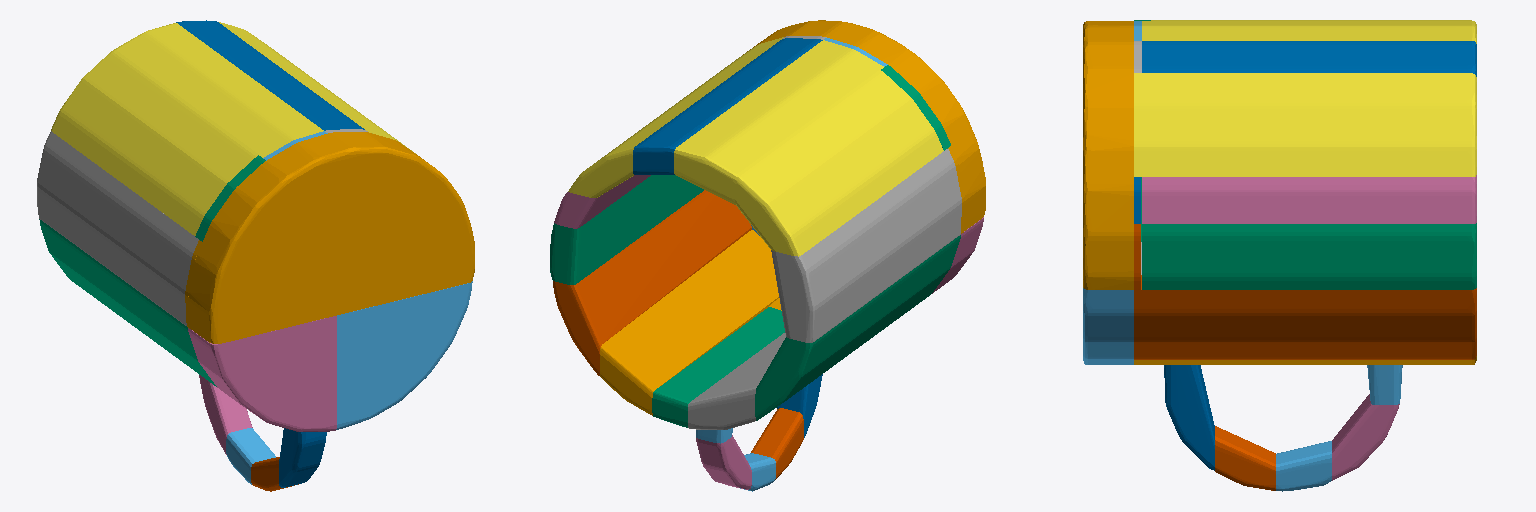
robot.urdf — root:
<robot name="root">
  <link name="link_convex_piece_018.obj">
    <inertial>
      <origin xyz="0 0 0" rpy="0 0 0"/>
    </inertial>
    <visual>
      <origin xyz="0 0 0" rpy="0 0 0"/>
      <geometry>
        <mesh filename="meshes/convex_piece_018.obj" scale="1.0 1.0 1.0"/>
      </geometry>
    </visual>
    <collision>
      <origin xyz="0 0 0" rpy="0 0 0"/>
      <geometry>
        <mesh filename="meshes/convex_piece_018.obj" scale="1.0 1.0 1.0"/>
      </geometry>
    </collision>
  </link>
  <link name="link_convex_piece_026.obj">
    <inertial>
      <origin xyz="0 0 0" rpy="0 0 0"/>
    </inertial>
    <visual>
      <origin xyz="0 0 0" rpy="0 0 0"/>
      <geometry>
        <mesh filename="meshes/convex_piece_026.obj" scale="1.0 1.0 1.0"/>
      </geometry>
    </visual>
    <collision>
      <origin xyz="0 0 0" rpy="0 0 0"/>
      <geometry>
        <mesh filename="meshes/convex_piece_026.obj" scale="1.0 1.0 1.0"/>
      </geometry>
    </collision>
  </link>
  <joint name="link_convex_piece_026.obj_joint" type="fixed">
    <origin xyz="0 0 0" rpy="0 0 0"/>
    <parent link="link_convex_piece_018.obj"/>
    <child link="link_convex_piece_026.obj"/>
  </joint>
  <link name="link_convex_piece_021.obj">
    <inertial>
      <origin xyz="0 0 0" rpy="0 0 0"/>
    </inertial>
    <visual>
      <origin xyz="0 0 0" rpy="0 0 0"/>
      <geometry>
        <mesh filename="meshes/convex_piece_021.obj" scale="1.0 1.0 1.0"/>
      </geometry>
    </visual>
    <collision>
      <origin xyz="0 0 0" rpy="0 0 0"/>
      <geometry>
        <mesh filename="meshes/convex_piece_021.obj" scale="1.0 1.0 1.0"/>
      </geometry>
    </collision>
  </link>
  <joint name="link_convex_piece_021.obj_joint" type="fixed">
    <origin xyz="0 0 0" rpy="0 0 0"/>
    <parent link="link_convex_piece_026.obj"/>
    <child link="link_convex_piece_021.obj"/>
  </joint>
  <link name="link_convex_piece_012.obj">
    <inertial>
      <origin xyz="0 0 0" rpy="0 0 0"/>
    </inertial>
    <visual>
      <origin xyz="0 0 0" rpy="0 0 0"/>
      <geometry>
        <mesh filename="meshes/convex_piece_012.obj" scale="1.0 1.0 1.0"/>
      </geometry>
    </visual>
    <collision>
      <origin xyz="0 0 0" rpy="0 0 0"/>
      <geometry>
        <mesh filename="meshes/convex_piece_012.obj" scale="1.0 1.0 1.0"/>
      </geometry>
    </collision>
  </link>
  <joint name="link_convex_piece_012.obj_joint" type="fixed">
    <origin xyz="0 0 0" rpy="0 0 0"/>
    <parent link="link_convex_piece_021.obj"/>
    <child link="link_convex_piece_012.obj"/>
  </joint>
  <link name="link_convex_piece_019.obj">
    <inertial>
      <origin xyz="0 0 0" rpy="0 0 0"/>
    </inertial>
    <visual>
      <origin xyz="0 0 0" rpy="0 0 0"/>
      <geometry>
        <mesh filename="meshes/convex_piece_019.obj" scale="1.0 1.0 1.0"/>
      </geometry>
    </visual>
    <collision>
      <origin xyz="0 0 0" rpy="0 0 0"/>
      <geometry>
        <mesh filename="meshes/convex_piece_019.obj" scale="1.0 1.0 1.0"/>
      </geometry>
    </collision>
  </link>
  <joint name="link_convex_piece_019.obj_joint" type="fixed">
    <origin xyz="0 0 0" rpy="0 0 0"/>
    <parent link="link_convex_piece_012.obj"/>
    <child link="link_convex_piece_019.obj"/>
  </joint>
  <link name="link_convex_piece_014.obj">
    <inertial>
      <origin xyz="0 0 0" rpy="0 0 0"/>
    </inertial>
    <visual>
      <origin xyz="0 0 0" rpy="0 0 0"/>
      <geometry>
        <mesh filename="meshes/convex_piece_014.obj" scale="1.0 1.0 1.0"/>
      </geometry>
    </visual>
    <collision>
      <origin xyz="0 0 0" rpy="0 0 0"/>
      <geometry>
        <mesh filename="meshes/convex_piece_014.obj" scale="1.0 1.0 1.0"/>
      </geometry>
    </collision>
  </link>
  <joint name="link_convex_piece_014.obj_joint" type="fixed">
    <origin xyz="0 0 0" rpy="0 0 0"/>
    <parent link="link_convex_piece_019.obj"/>
    <child link="link_convex_piece_014.obj"/>
  </joint>
  <link name="link_convex_piece_020.obj">
    <inertial>
      <origin xyz="0 0 0" rpy="0 0 0"/>
    </inertial>
    <visual>
      <origin xyz="0 0 0" rpy="0 0 0"/>
      <geometry>
        <mesh filename="meshes/convex_piece_020.obj" scale="1.0 1.0 1.0"/>
      </geometry>
    </visual>
    <collision>
      <origin xyz="0 0 0" rpy="0 0 0"/>
      <geometry>
        <mesh filename="meshes/convex_piece_020.obj" scale="1.0 1.0 1.0"/>
      </geometry>
    </collision>
  </link>
  <joint name="link_convex_piece_020.obj_joint" type="fixed">
    <origin xyz="0 0 0" rpy="0 0 0"/>
    <parent link="link_convex_piece_014.obj"/>
    <child link="link_convex_piece_020.obj"/>
  </joint>
  <link name="link_convex_piece_004.obj">
    <inertial>
      <origin xyz="0 0 0" rpy="0 0 0"/>
    </inertial>
    <visual>
      <origin xyz="0 0 0" rpy="0 0 0"/>
      <geometry>
        <mesh filename="meshes/convex_piece_004.obj" scale="1.0 1.0 1.0"/>
      </geometry>
    </visual>
    <collision>
      <origin xyz="0 0 0" rpy="0 0 0"/>
      <geometry>
        <mesh filename="meshes/convex_piece_004.obj" scale="1.0 1.0 1.0"/>
      </geometry>
    </collision>
  </link>
  <joint name="link_convex_piece_004.obj_joint" type="fixed">
    <origin xyz="0 0 0" rpy="0 0 0"/>
    <parent link="link_convex_piece_020.obj"/>
    <child link="link_convex_piece_004.obj"/>
  </joint>
  <link name="link_convex_piece_001.obj">
    <inertial>
      <origin xyz="0 0 0" rpy="0 0 0"/>
    </inertial>
    <visual>
      <origin xyz="0 0 0" rpy="0 0 0"/>
      <geometry>
        <mesh filename="meshes/convex_piece_001.obj" scale="1.0 1.0 1.0"/>
      </geometry>
    </visual>
    <collision>
      <origin xyz="0 0 0" rpy="0 0 0"/>
      <geometry>
        <mesh filename="meshes/convex_piece_001.obj" scale="1.0 1.0 1.0"/>
      </geometry>
    </collision>
  </link>
  <joint name="link_convex_piece_001.obj_joint" type="fixed">
    <origin xyz="0 0 0" rpy="0 0 0"/>
    <parent link="link_convex_piece_004.obj"/>
    <child link="link_convex_piece_001.obj"/>
  </joint>
  <link name="link_convex_piece_015.obj">
    <inertial>
      <origin xyz="0 0 0" rpy="0 0 0"/>
    </inertial>
    <visual>
      <origin xyz="0 0 0" rpy="0 0 0"/>
      <geometry>
        <mesh filename="meshes/convex_piece_015.obj" scale="1.0 1.0 1.0"/>
      </geometry>
    </visual>
    <collision>
      <origin xyz="0 0 0" rpy="0 0 0"/>
      <geometry>
        <mesh filename="meshes/convex_piece_015.obj" scale="1.0 1.0 1.0"/>
      </geometry>
    </collision>
  </link>
  <joint name="link_convex_piece_015.obj_joint" type="fixed">
    <origin xyz="0 0 0" rpy="0 0 0"/>
    <parent link="link_convex_piece_001.obj"/>
    <child link="link_convex_piece_015.obj"/>
  </joint>
  <link name="link_convex_piece_005.obj">
    <inertial>
      <origin xyz="0 0 0" rpy="0 0 0"/>
    </inertial>
    <visual>
      <origin xyz="0 0 0" rpy="0 0 0"/>
      <geometry>
        <mesh filename="meshes/convex_piece_005.obj" scale="1.0 1.0 1.0"/>
      </geometry>
    </visual>
    <collision>
      <origin xyz="0 0 0" rpy="0 0 0"/>
      <geometry>
        <mesh filename="meshes/convex_piece_005.obj" scale="1.0 1.0 1.0"/>
      </geometry>
    </collision>
  </link>
  <joint name="link_convex_piece_005.obj_joint" type="fixed">
    <origin xyz="0 0 0" rpy="0 0 0"/>
    <parent link="link_convex_piece_015.obj"/>
    <child link="link_convex_piece_005.obj"/>
  </joint>
  <link name="link_convex_piece_024.obj">
    <inertial>
      <origin xyz="0 0 0" rpy="0 0 0"/>
    </inertial>
    <visual>
      <origin xyz="0 0 0" rpy="0 0 0"/>
      <geometry>
        <mesh filename="meshes/convex_piece_024.obj" scale="1.0 1.0 1.0"/>
      </geometry>
    </visual>
    <collision>
      <origin xyz="0 0 0" rpy="0 0 0"/>
      <geometry>
        <mesh filename="meshes/convex_piece_024.obj" scale="1.0 1.0 1.0"/>
      </geometry>
    </collision>
  </link>
  <joint name="link_convex_piece_024.obj_joint" type="fixed">
    <origin xyz="0 0 0" rpy="0 0 0"/>
    <parent link="link_convex_piece_005.obj"/>
    <child link="link_convex_piece_024.obj"/>
  </joint>
  <link name="link_convex_piece_013.obj">
    <inertial>
      <origin xyz="0 0 0" rpy="0 0 0"/>
    </inertial>
    <visual>
      <origin xyz="0 0 0" rpy="0 0 0"/>
      <geometry>
        <mesh filename="meshes/convex_piece_013.obj" scale="1.0 1.0 1.0"/>
      </geometry>
    </visual>
    <collision>
      <origin xyz="0 0 0" rpy="0 0 0"/>
      <geometry>
        <mesh filename="meshes/convex_piece_013.obj" scale="1.0 1.0 1.0"/>
      </geometry>
    </collision>
  </link>
  <joint name="link_convex_piece_013.obj_joint" type="fixed">
    <origin xyz="0 0 0" rpy="0 0 0"/>
    <parent link="link_convex_piece_024.obj"/>
    <child link="link_convex_piece_013.obj"/>
  </joint>
  <link name="link_convex_piece_002.obj">
    <inertial>
      <origin xyz="0 0 0" rpy="0 0 0"/>
    </inertial>
    <visual>
      <origin xyz="0 0 0" rpy="0 0 0"/>
      <geometry>
        <mesh filename="meshes/convex_piece_002.obj" scale="1.0 1.0 1.0"/>
      </geometry>
    </visual>
    <collision>
      <origin xyz="0 0 0" rpy="0 0 0"/>
      <geometry>
        <mesh filename="meshes/convex_piece_002.obj" scale="1.0 1.0 1.0"/>
      </geometry>
    </collision>
  </link>
  <joint name="link_convex_piece_002.obj_joint" type="fixed">
    <origin xyz="0 0 0" rpy="0 0 0"/>
    <parent link="link_convex_piece_013.obj"/>
    <child link="link_convex_piece_002.obj"/>
  </joint>
  <link name="link_convex_piece_025.obj">
    <inertial>
      <origin xyz="0 0 0" rpy="0 0 0"/>
    </inertial>
    <visual>
      <origin xyz="0 0 0" rpy="0 0 0"/>
      <geometry>
        <mesh filename="meshes/convex_piece_025.obj" scale="1.0 1.0 1.0"/>
      </geometry>
    </visual>
    <collision>
      <origin xyz="0 0 0" rpy="0 0 0"/>
      <geometry>
        <mesh filename="meshes/convex_piece_025.obj" scale="1.0 1.0 1.0"/>
      </geometry>
    </collision>
  </link>
  <joint name="link_convex_piece_025.obj_joint" type="fixed">
    <origin xyz="0 0 0" rpy="0 0 0"/>
    <parent link="link_convex_piece_002.obj"/>
    <child link="link_convex_piece_025.obj"/>
  </joint>
  <link name="link_convex_piece_010.obj">
    <inertial>
      <origin xyz="0 0 0" rpy="0 0 0"/>
    </inertial>
    <visual>
      <origin xyz="0 0 0" rpy="0 0 0"/>
      <geometry>
        <mesh filename="meshes/convex_piece_010.obj" scale="1.0 1.0 1.0"/>
      </geometry>
    </visual>
    <collision>
      <origin xyz="0 0 0" rpy="0 0 0"/>
      <geometry>
        <mesh filename="meshes/convex_piece_010.obj" scale="1.0 1.0 1.0"/>
      </geometry>
    </collision>
  </link>
  <joint name="link_convex_piece_010.obj_joint" type="fixed">
    <origin xyz="0 0 0" rpy="0 0 0"/>
    <parent link="link_convex_piece_025.obj"/>
    <child link="link_convex_piece_010.obj"/>
  </joint>
  <link name="link_convex_piece_006.obj">
    <inertial>
      <origin xyz="0 0 0" rpy="0 0 0"/>
    </inertial>
    <visual>
      <origin xyz="0 0 0" rpy="0 0 0"/>
      <geometry>
        <mesh filename="meshes/convex_piece_006.obj" scale="1.0 1.0 1.0"/>
      </geometry>
    </visual>
    <collision>
      <origin xyz="0 0 0" rpy="0 0 0"/>
      <geometry>
        <mesh filename="meshes/convex_piece_006.obj" scale="1.0 1.0 1.0"/>
      </geometry>
    </collision>
  </link>
  <joint name="link_convex_piece_006.obj_joint" type="fixed">
    <origin xyz="0 0 0" rpy="0 0 0"/>
    <parent link="link_convex_piece_010.obj"/>
    <child link="link_convex_piece_006.obj"/>
  </joint>
  <link name="link_convex_piece_003.obj">
    <inertial>
      <origin xyz="0 0 0" rpy="0 0 0"/>
    </inertial>
    <visual>
      <origin xyz="0 0 0" rpy="0 0 0"/>
      <geometry>
        <mesh filename="meshes/convex_piece_003.obj" scale="1.0 1.0 1.0"/>
      </geometry>
    </visual>
    <collision>
      <origin xyz="0 0 0" rpy="0 0 0"/>
      <geometry>
        <mesh filename="meshes/convex_piece_003.obj" scale="1.0 1.0 1.0"/>
      </geometry>
    </collision>
  </link>
  <joint name="link_convex_piece_003.obj_joint" type="fixed">
    <origin xyz="0 0 0" rpy="0 0 0"/>
    <parent link="link_convex_piece_006.obj"/>
    <child link="link_convex_piece_003.obj"/>
  </joint>
  <link name="link_convex_piece_008.obj">
    <inertial>
      <origin xyz="0 0 0" rpy="0 0 0"/>
    </inertial>
    <visual>
      <origin xyz="0 0 0" rpy="0 0 0"/>
      <geometry>
        <mesh filename="meshes/convex_piece_008.obj" scale="1.0 1.0 1.0"/>
      </geometry>
    </visual>
    <collision>
      <origin xyz="0 0 0" rpy="0 0 0"/>
      <geometry>
        <mesh filename="meshes/convex_piece_008.obj" scale="1.0 1.0 1.0"/>
      </geometry>
    </collision>
  </link>
  <joint name="link_convex_piece_008.obj_joint" type="fixed">
    <origin xyz="0 0 0" rpy="0 0 0"/>
    <parent link="link_convex_piece_003.obj"/>
    <child link="link_convex_piece_008.obj"/>
  </joint>
  <link name="link_convex_piece_023.obj">
    <inertial>
      <origin xyz="0 0 0" rpy="0 0 0"/>
    </inertial>
    <visual>
      <origin xyz="0 0 0" rpy="0 0 0"/>
      <geometry>
        <mesh filename="meshes/convex_piece_023.obj" scale="1.0 1.0 1.0"/>
      </geometry>
    </visual>
    <collision>
      <origin xyz="0 0 0" rpy="0 0 0"/>
      <geometry>
        <mesh filename="meshes/convex_piece_023.obj" scale="1.0 1.0 1.0"/>
      </geometry>
    </collision>
  </link>
  <joint name="link_convex_piece_023.obj_joint" type="fixed">
    <origin xyz="0 0 0" rpy="0 0 0"/>
    <parent link="link_convex_piece_008.obj"/>
    <child link="link_convex_piece_023.obj"/>
  </joint>
  <link name="link_convex_piece_022.obj">
    <inertial>
      <origin xyz="0 0 0" rpy="0 0 0"/>
    </inertial>
    <visual>
      <origin xyz="0 0 0" rpy="0 0 0"/>
      <geometry>
        <mesh filename="meshes/convex_piece_022.obj" scale="1.0 1.0 1.0"/>
      </geometry>
    </visual>
    <collision>
      <origin xyz="0 0 0" rpy="0 0 0"/>
      <geometry>
        <mesh filename="meshes/convex_piece_022.obj" scale="1.0 1.0 1.0"/>
      </geometry>
    </collision>
  </link>
  <joint name="link_convex_piece_022.obj_joint" type="fixed">
    <origin xyz="0 0 0" rpy="0 0 0"/>
    <parent link="link_convex_piece_023.obj"/>
    <child link="link_convex_piece_022.obj"/>
  </joint>
  <link name="link_convex_piece_011.obj">
    <inertial>
      <origin xyz="0 0 0" rpy="0 0 0"/>
    </inertial>
    <visual>
      <origin xyz="0 0 0" rpy="0 0 0"/>
      <geometry>
        <mesh filename="meshes/convex_piece_011.obj" scale="1.0 1.0 1.0"/>
      </geometry>
    </visual>
    <collision>
      <origin xyz="0 0 0" rpy="0 0 0"/>
      <geometry>
        <mesh filename="meshes/convex_piece_011.obj" scale="1.0 1.0 1.0"/>
      </geometry>
    </collision>
  </link>
  <joint name="link_convex_piece_011.obj_joint" type="fixed">
    <origin xyz="0 0 0" rpy="0 0 0"/>
    <parent link="link_convex_piece_022.obj"/>
    <child link="link_convex_piece_011.obj"/>
  </joint>
  <link name="link_convex_piece_000.obj">
    <inertial>
      <origin xyz="0 0 0" rpy="0 0 0"/>
    </inertial>
    <visual>
      <origin xyz="0 0 0" rpy="0 0 0"/>
      <geometry>
        <mesh filename="meshes/convex_piece_000.obj" scale="1.0 1.0 1.0"/>
      </geometry>
    </visual>
    <collision>
      <origin xyz="0 0 0" rpy="0 0 0"/>
      <geometry>
        <mesh filename="meshes/convex_piece_000.obj" scale="1.0 1.0 1.0"/>
      </geometry>
    </collision>
  </link>
  <joint name="link_convex_piece_000.obj_joint" type="fixed">
    <origin xyz="0 0 0" rpy="0 0 0"/>
    <parent link="link_convex_piece_011.obj"/>
    <child link="link_convex_piece_000.obj"/>
  </joint>
  <link name="link_convex_piece_016.obj">
    <inertial>
      <origin xyz="0 0 0" rpy="0 0 0"/>
    </inertial>
    <visual>
      <origin xyz="0 0 0" rpy="0 0 0"/>
      <geometry>
        <mesh filename="meshes/convex_piece_016.obj" scale="1.0 1.0 1.0"/>
      </geometry>
    </visual>
    <collision>
      <origin xyz="0 0 0" rpy="0 0 0"/>
      <geometry>
        <mesh filename="meshes/convex_piece_016.obj" scale="1.0 1.0 1.0"/>
      </geometry>
    </collision>
  </link>
  <joint name="link_convex_piece_016.obj_joint" type="fixed">
    <origin xyz="0 0 0" rpy="0 0 0"/>
    <parent link="link_convex_piece_000.obj"/>
    <child link="link_convex_piece_016.obj"/>
  </joint>
  <link name="link_convex_piece_009.obj">
    <inertial>
      <origin xyz="0 0 0" rpy="0 0 0"/>
    </inertial>
    <visual>
      <origin xyz="0 0 0" rpy="0 0 0"/>
      <geometry>
        <mesh filename="meshes/convex_piece_009.obj" scale="1.0 1.0 1.0"/>
      </geometry>
    </visual>
    <collision>
      <origin xyz="0 0 0" rpy="0 0 0"/>
      <geometry>
        <mesh filename="meshes/convex_piece_009.obj" scale="1.0 1.0 1.0"/>
      </geometry>
    </collision>
  </link>
  <joint name="link_convex_piece_009.obj_joint" type="fixed">
    <origin xyz="0 0 0" rpy="0 0 0"/>
    <parent link="link_convex_piece_016.obj"/>
    <child link="link_convex_piece_009.obj"/>
  </joint>
  <link name="link_convex_piece_007.obj">
    <inertial>
      <origin xyz="0 0 0" rpy="0 0 0"/>
    </inertial>
    <visual>
      <origin xyz="0 0 0" rpy="0 0 0"/>
      <geometry>
        <mesh filename="meshes/convex_piece_007.obj" scale="1.0 1.0 1.0"/>
      </geometry>
    </visual>
    <collision>
      <origin xyz="0 0 0" rpy="0 0 0"/>
      <geometry>
        <mesh filename="meshes/convex_piece_007.obj" scale="1.0 1.0 1.0"/>
      </geometry>
    </collision>
  </link>
  <joint name="link_convex_piece_007.obj_joint" type="fixed">
    <origin xyz="0 0 0" rpy="0 0 0"/>
    <parent link="link_convex_piece_009.obj"/>
    <child link="link_convex_piece_007.obj"/>
  </joint>
  <link name="link_convex_piece_017.obj">
    <inertial>
      <origin xyz="0 0 0" rpy="0 0 0"/>
    </inertial>
    <visual>
      <origin xyz="0 0 0" rpy="0 0 0"/>
      <geometry>
        <mesh filename="meshes/convex_piece_017.obj" scale="1.0 1.0 1.0"/>
      </geometry>
    </visual>
    <collision>
      <origin xyz="0 0 0" rpy="0 0 0"/>
      <geometry>
        <mesh filename="meshes/convex_piece_017.obj" scale="1.0 1.0 1.0"/>
      </geometry>
    </collision>
  </link>
  <joint name="link_convex_piece_017.obj_joint" type="fixed">
    <origin xyz="0 0 0" rpy="0 0 0"/>
    <parent link="link_convex_piece_007.obj"/>
    <child link="link_convex_piece_017.obj"/>
  </joint>
</robot>

--- Facts derived from the render (not from the file) ---
The picture shows the robot from 3 angles, left to right: view 1: azimuth 30°, elevation 25°; view 2: azimuth 150°, elevation 25°; view 3: azimuth 270°, elevation 25°; orthographic projection.
Model root with 27 links and 26 joints (26 fixed), rooted at link_convex_piece_018.obj, posed every joint at zero.
Visible links, largest first — view 1: link_convex_piece_001.obj, link_convex_piece_024.obj, link_convex_piece_010.obj, link_convex_piece_003.obj, link_convex_piece_000.obj, link_convex_piece_023.obj, link_convex_piece_005.obj, link_convex_piece_022.obj, link_convex_piece_019.obj, link_convex_piece_012.obj, link_convex_piece_025.obj, link_convex_piece_007.obj (+2 smaller); view 2: link_convex_piece_024.obj, link_convex_piece_010.obj, link_convex_piece_009.obj, link_convex_piece_011.obj, link_convex_piece_023.obj, link_convex_piece_005.obj, link_convex_piece_001.obj, link_convex_piece_021.obj, link_convex_piece_022.obj, link_convex_piece_008.obj, link_convex_piece_004.obj, link_convex_piece_012.obj (+7 smaller); view 3: link_convex_piece_012.obj, link_convex_piece_011.obj, link_convex_piece_021.obj, link_convex_piece_020.obj, link_convex_piece_001.obj, link_convex_piece_022.obj, link_convex_piece_023.obj, link_convex_piece_003.obj, link_convex_piece_019.obj, link_convex_piece_025.obj, link_convex_piece_002.obj, link_convex_piece_007.obj (+2 smaller).
Link boxes in pixels (<box>): link_convex_piece_001.obj: <box>188,132,474,343</box>; link_convex_piece_024.obj: <box>51,50,257,235</box>; link_convex_piece_010.obj: <box>37,131,198,325</box>; link_convex_piece_003.obj: <box>336,281,472,429</box>; link_convex_piece_000.obj: <box>188,316,336,431</box>; link_convex_piece_023.obj: <box>114,23,323,157</box>; link_convex_piece_005.obj: <box>39,219,216,386</box>; link_convex_piece_022.obj: <box>176,20,364,130</box>; link_convex_piece_019.obj: <box>279,428,326,487</box>; link_convex_piece_012.obj: <box>219,22,415,153</box>; link_convex_piece_025.obj: <box>199,375,252,454</box>; link_convex_piece_007.obj: <box>226,428,275,484</box>; link_convex_piece_024.obj: <box>735,70,943,256</box>; link_convex_piece_010.obj: <box>771,149,961,342</box>; link_convex_piece_009.obj: <box>600,230,778,415</box>; link_convex_piece_011.obj: <box>553,190,751,375</box>; link_convex_piece_023.obj: <box>674,40,883,204</box>; link_convex_piece_005.obj: <box>755,235,960,420</box>; link_convex_piece_001.obj: <box>743,20,985,230</box>; link_convex_piece_021.obj: <box>550,175,703,284</box>; link_convex_piece_022.obj: <box>633,38,822,174</box>; link_convex_piece_008.obj: <box>652,307,784,427</box>; link_convex_piece_004.obj: <box>688,333,785,429</box>; link_convex_piece_012.obj: <box>568,37,783,197</box>; link_convex_piece_012.obj: <box>1134,73,1476,176</box>; link_convex_piece_011.obj: <box>1134,275,1476,359</box>; link_convex_piece_021.obj: <box>1142,223,1476,289</box>; link_convex_piece_020.obj: <box>1142,175,1476,223</box>; link_convex_piece_001.obj: <box>1083,21,1133,289</box>; link_convex_piece_022.obj: <box>1142,41,1476,76</box>; link_convex_piece_023.obj: <box>1142,21,1476,43</box>; link_convex_piece_003.obj: <box>1083,288,1133,364</box>; link_convex_piece_019.obj: <box>1164,365,1214,470</box>; link_convex_piece_025.obj: <box>1332,394,1399,480</box>; link_convex_piece_002.obj: <box>1215,426,1275,490</box>; link_convex_piece_007.obj: <box>1276,441,1331,491</box>.
Size in the robot's own frame: 0.9698 by 1.11 by 1.38 metres.
Meshes: 27 distinct files referenced, 27 mesh visuals loaded (27 OBJ).
